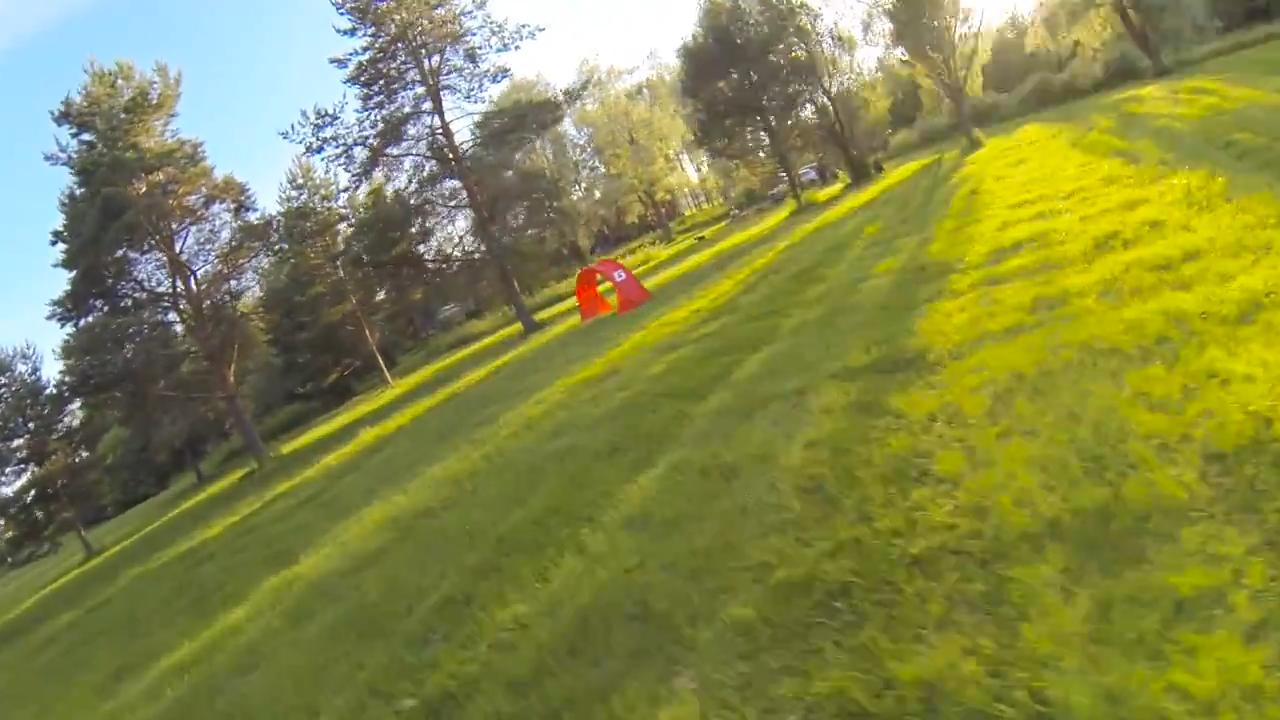gate: (571, 260, 651, 318)
